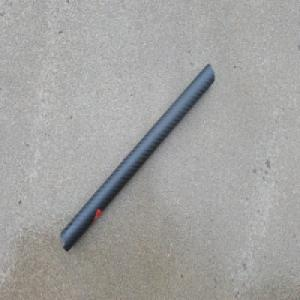LuggagePart: (58, 61, 215, 255)
